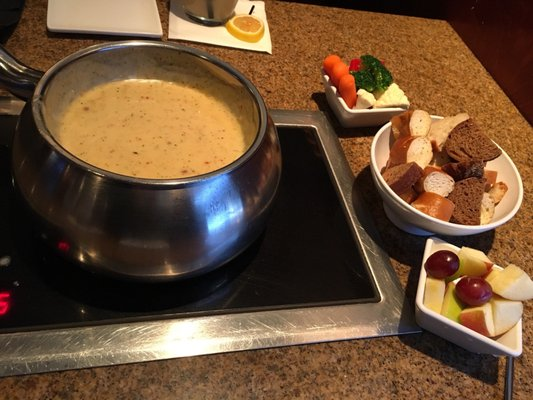sushi: (369, 110, 523, 237), (413, 238, 532, 359)
